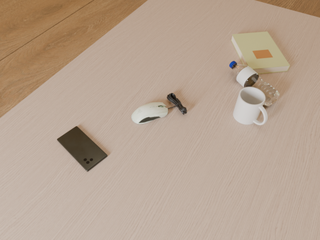book: (231, 32, 290, 74)
bottle: (229, 61, 280, 106)
cup: (233, 87, 268, 125)
mouse: (132, 103, 169, 124)
phone: (57, 126, 107, 172)
